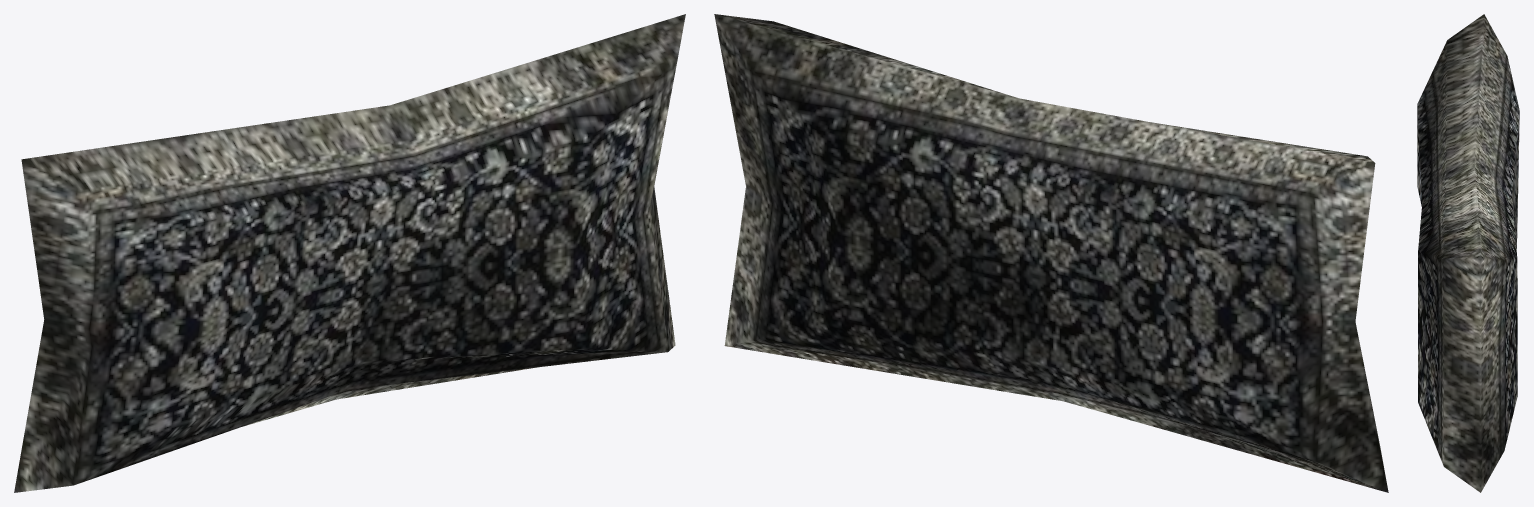
The model's file is prop_pillow3.glb.
3 renders of one model, left to right at view 1: azimuth 30°, elevation 25°; view 2: azimuth 150°, elevation 25°; view 3: azimuth 270°, elevation 25°, orthographic. The views are drawn at different scales.
Bounding box in the file's own units: 24.38 × 11.89 × 4.44.
1 material, 1 textured.
